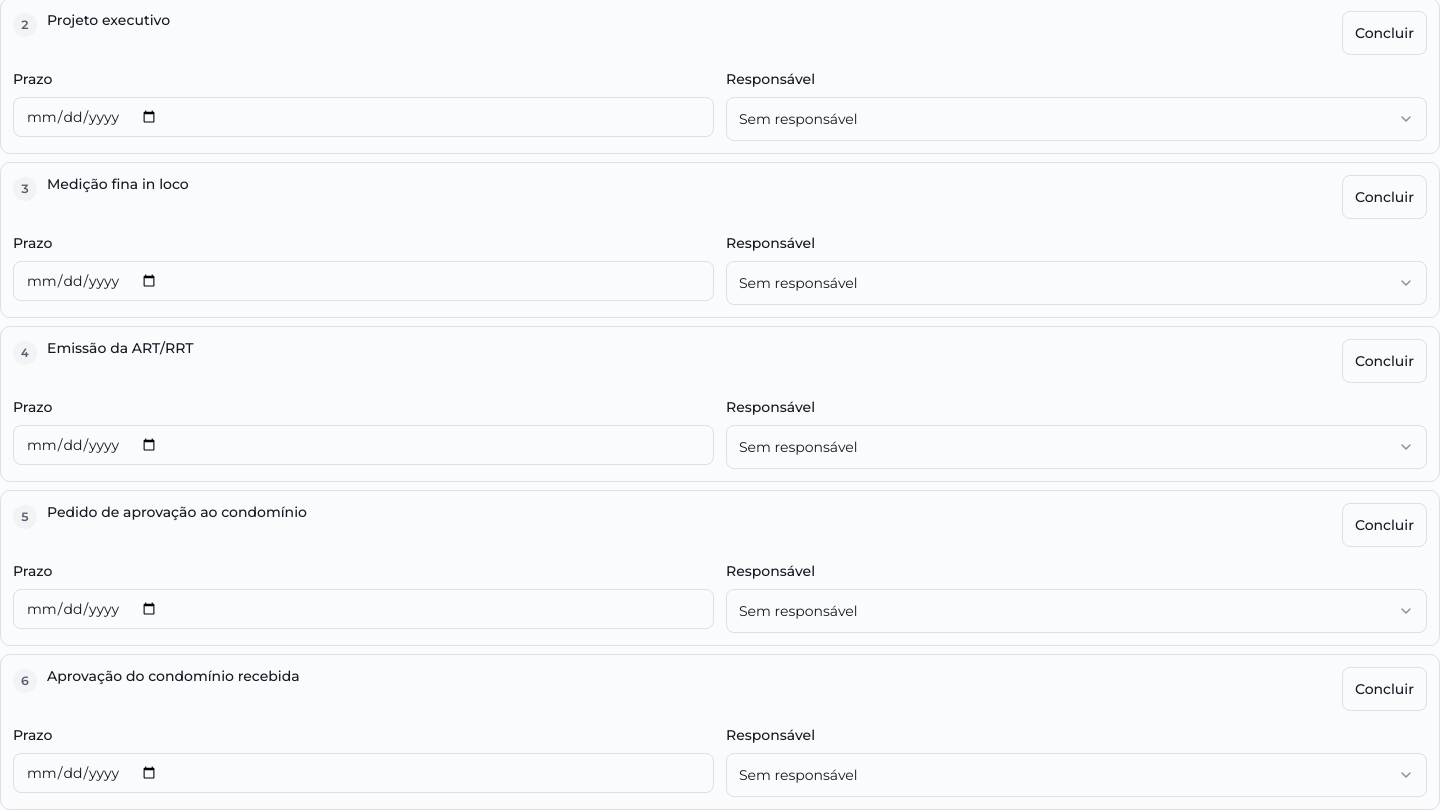
Test: Fase de projeto: concluir e reabrir › aprovação do condomínio: a data é 'em que a aprovação chegou' e avisa o que ela define
Later steps or results of the test are not shown.
(page scrolled)
Click the button "Concluir" in the row of "Aprovação do condomínio recebida": {"x": 1384, "y": 689} x1=1342 y1=667 x2=1427 y2=711
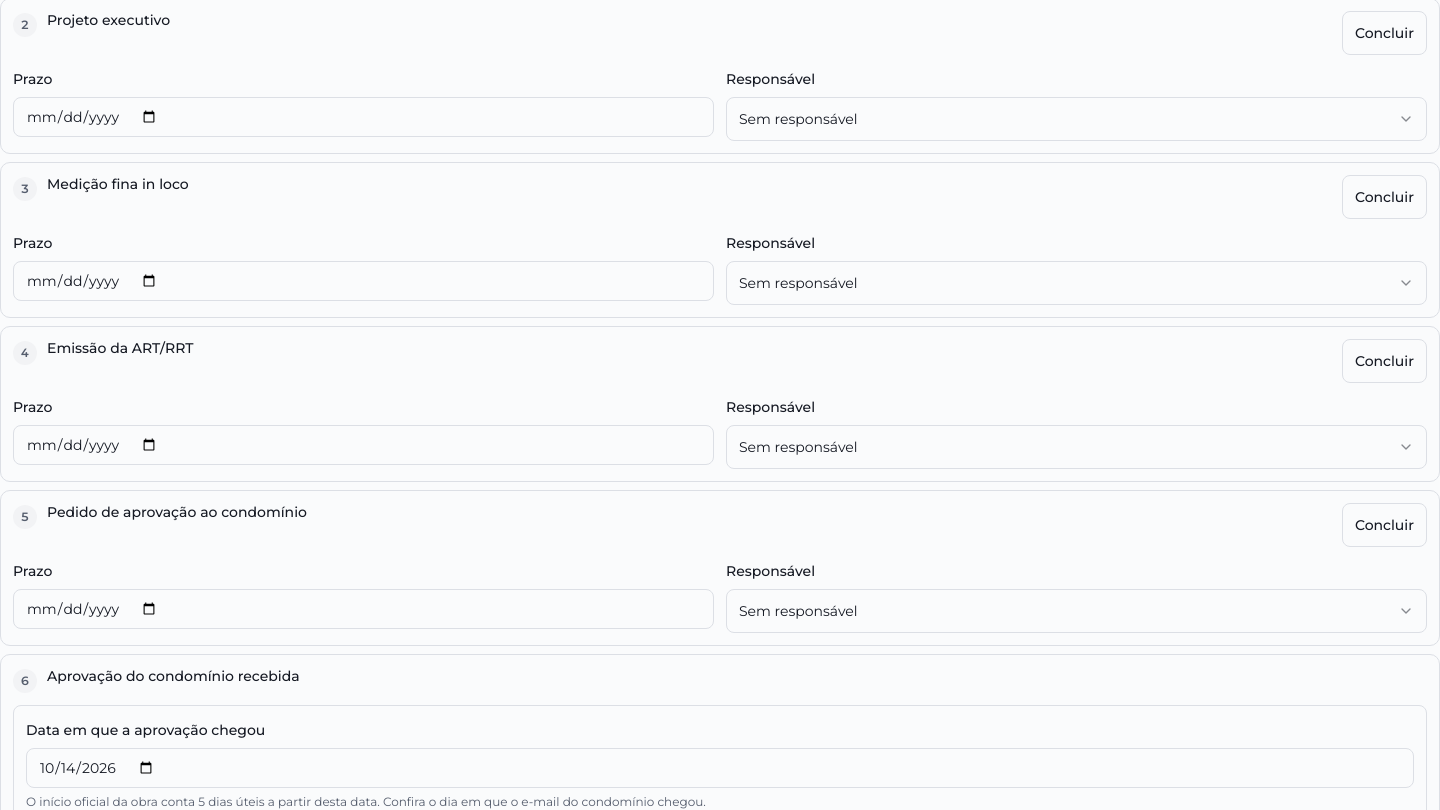
Expected: the text "início oficial da obra conta 5 dias úteis a partir desta data" is shown, x1=26 y1=794 x2=706 y2=809
